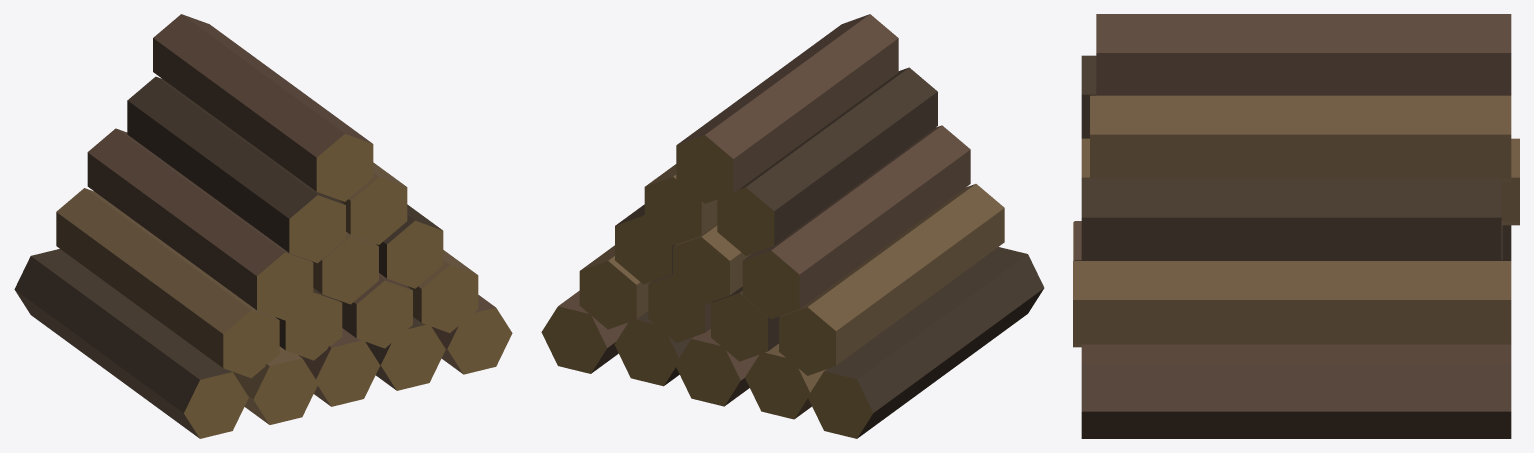
File: Lumber_1.fbx
3 renders of one model, left to right at view 1: azimuth 30°, elevation 25°; view 2: azimuth 150°, elevation 25°; view 3: azimuth 270°, elevation 25°, orthographic. The views are drawn at different scales.
Visible parts, largest first — view 1: pCylinder280; view 2: pCylinder280; view 3: pCylinder280.
Part boxes in pixels (x1,y1,x2,y2): pCylinder280: (14, 14, 512, 438); pCylinder280: (541, 14, 1044, 438); pCylinder280: (1073, 14, 1519, 438).
Bounding box in the file's own units: 101 × 77.46 × 93.64.
